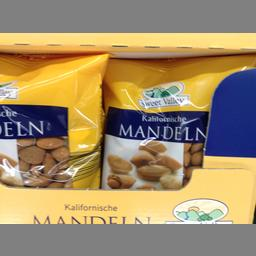nuts: (102, 58, 252, 188), (0, 52, 109, 188)
